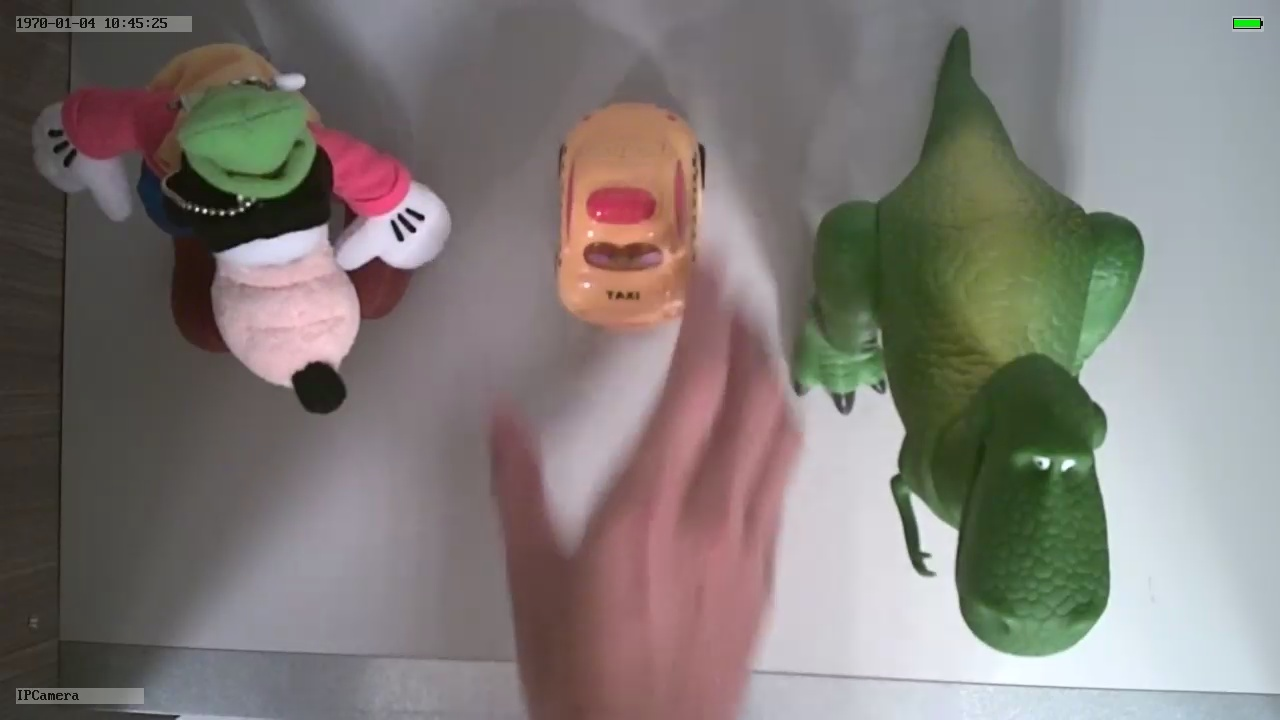goofy: (31, 41, 455, 414)
rex: (796, 130, 1145, 659)
